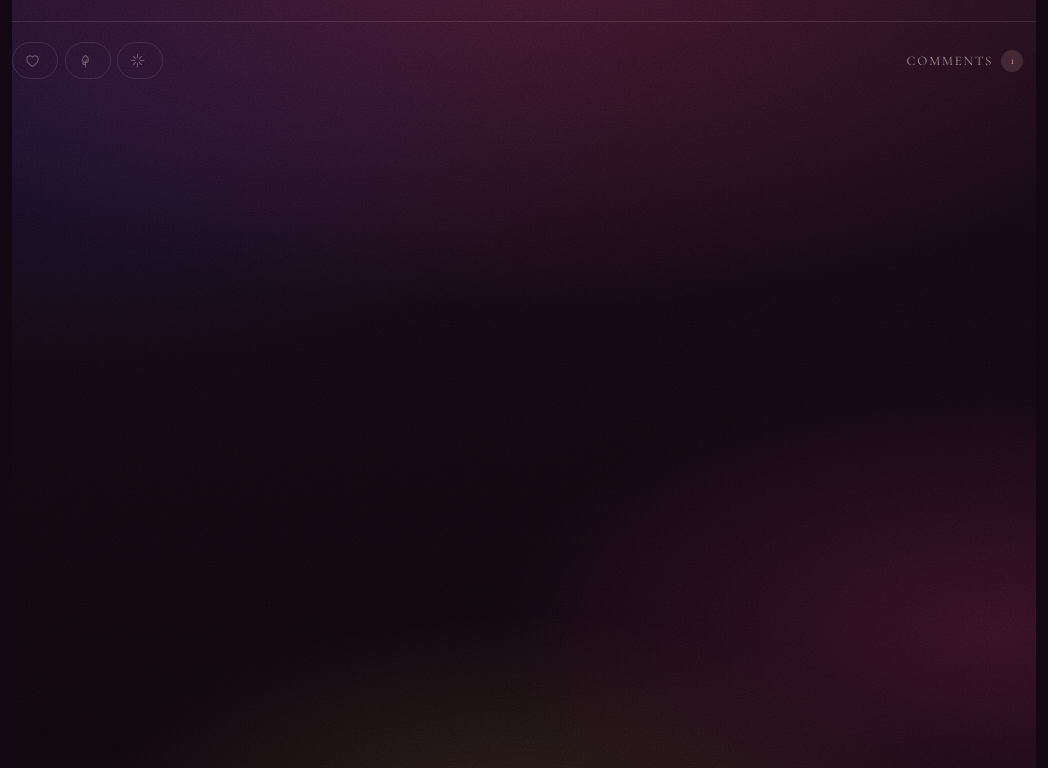
Test: a guest › still offers the form when only another guest device has commented
Click the button "Comments 1" at [965, 61], box [894,39,1036,82]
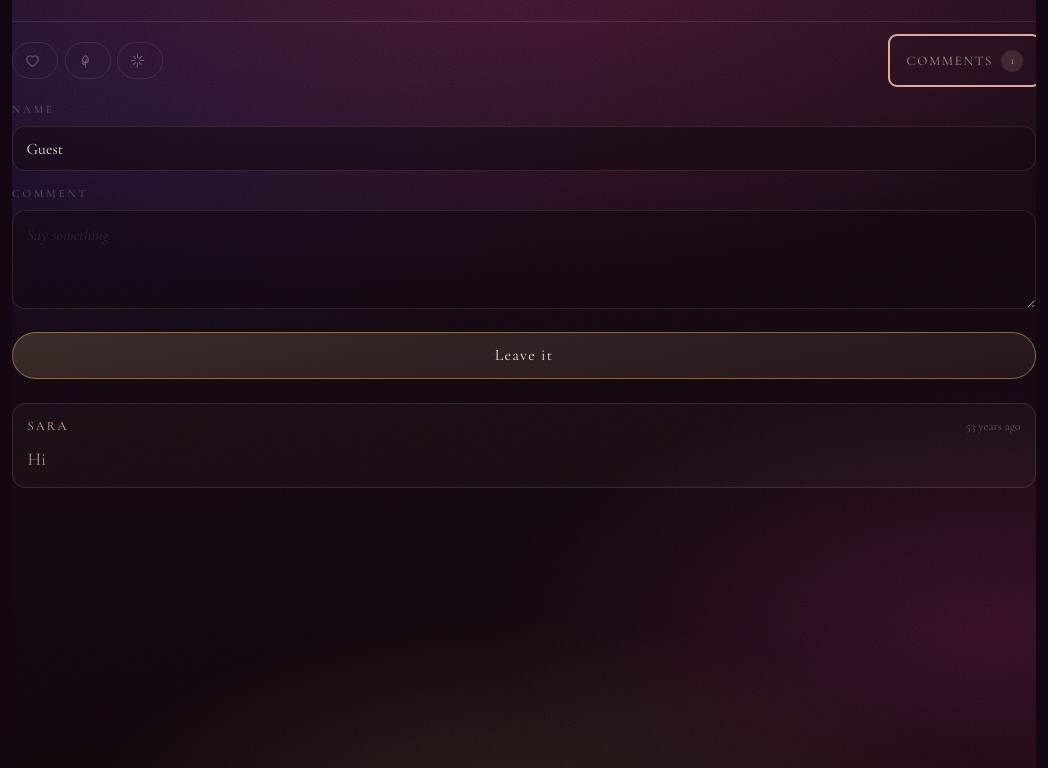
Now the text box labelled "Comment" is shown, box [12,210,1036,309]
